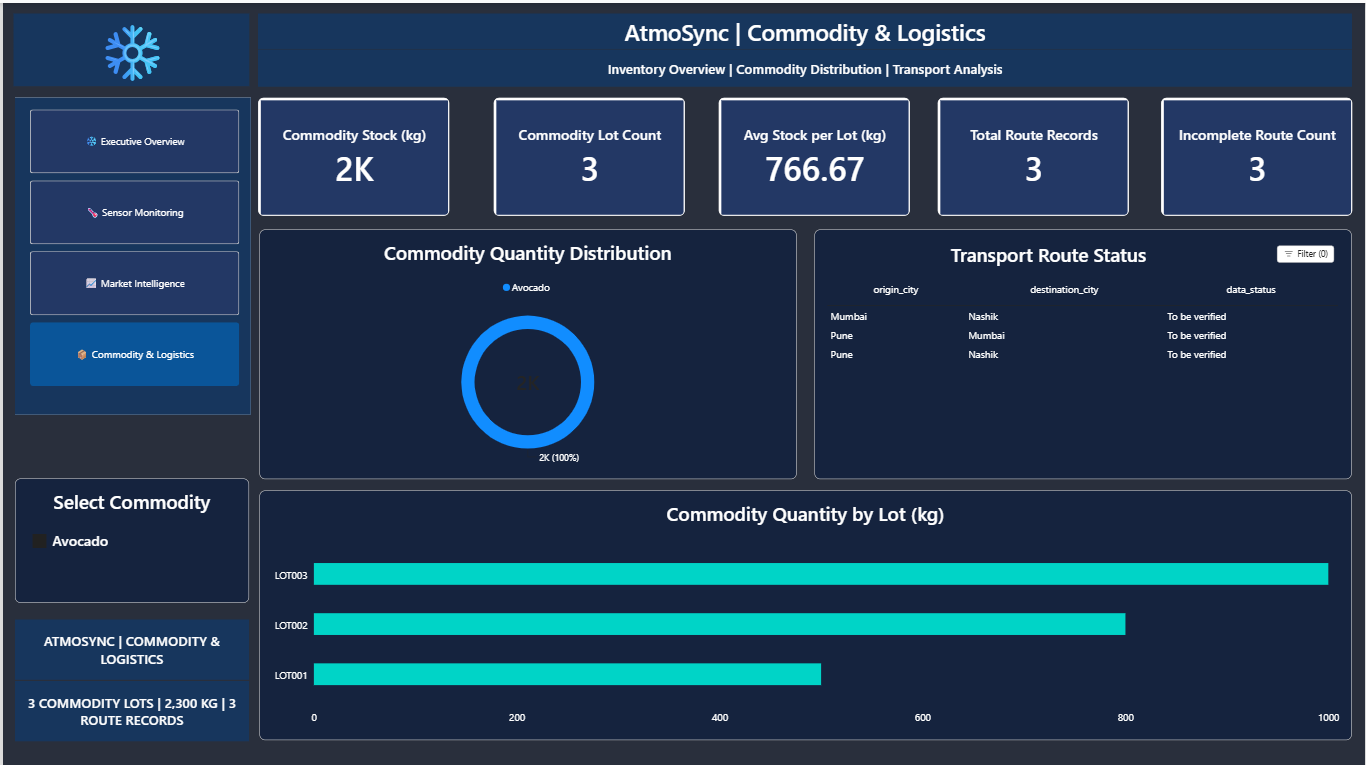

Layout of this report page (visuals, bound fields, positions):
{"tool":"powerbi","page":{"name":"📦\tCommodity & Logistics","canvas":[1920,1080],"ordinal":3},"visuals":[{"type":"shape","box":[15,15,332.5,102.5],"z":0},{"type":"shape","box":[360,15,1542.5,50],"z":1000},{"type":"shape","box":[360,65,1542.5,52.5],"z":2000},{"type":"shape","box":[17.5,132.5,332.5,447.5],"z":3000},{"type":"pageNavigator","box":[37.5,150,295,390],"z":4000},{"type":"cardVisual","fields":{"Data":["Commodity_Data.Commodity Stock (kg)"]},"box":[360.5,132.6,270,167.4],"z":5000},{"type":"cardVisual","fields":{"Data":["Commodity_Data.Commodity Lot Count"]},"box":[690.7,132.6,270,167],"z":6000},{"type":"cardVisual","fields":{"Data":["Commodity_Data.Avg Stock per Lot (kg)"]},"box":[1009.3,132.6,270,167],"z":7000},{"type":"cardVisual","fields":{"Data":["Transport_Routes.Available Route Count"]},"box":[1318.6,132.6,270,167],"z":8000},{"type":"cardVisual","fields":{"Data":["Transport_Routes.Incomplete Route Count"]},"box":[1632.6,132.6,270,167],"z":9000},{"type":"donutChart","title":"Commodity Quantity Distribution","fields":{"Category":["Commodity_Data.commodity"],"Y":["Sum(Commodity_Data.quantity)"]},"box":[361.1,318.8,757.3,351.7],"z":10000},{"type":"clusteredBarChart","title":"Commodity Quantity by Lot (kg)","fields":{"Category":["Commodity_Data.lot_id"],"Y":["Sum(Commodity_Data.quantity)"]},"box":[361.1,686.9,1540.3,351.7],"z":11000},{"type":"shape","box":[17.5,870,330,85],"z":12000},{"type":"shape","box":[17.5,955,330,85],"z":13000},{"type":"slicer","title":"Select Commodity","fields":{"Values":["Commodity_Data.commodity"]},"box":[16.4,670.5,330,175],"z":15000},{"type":"tableEx","title":"Transport Route Status","fields":{"Values":["Transport_Routes.origin_city","Transport_Routes.destination_city","Transport_Routes.data_status"]},"box":[1144.1,318.8,757.3,351.7],"z":15001}]}

Visuals, with their boxes in screenshot pixels (x1, y1, x2, y2), scaled from the page's 1920x1080 canvas onto the 1366x765 screenshot:
shape: x1=11 y1=11 x2=247 y2=83
shape: x1=256 y1=11 x2=1354 y2=46
shape: x1=256 y1=46 x2=1354 y2=83
shape: x1=12 y1=94 x2=249 y2=411
pageNavigator: x1=27 y1=106 x2=237 y2=382
cardVisual - Commodity_Data.Commodity Stock (kg): x1=256 y1=94 x2=449 y2=212
cardVisual - Commodity_Data.Commodity Lot Count: x1=491 y1=94 x2=683 y2=212
cardVisual - Commodity_Data.Avg Stock per Lot (kg): x1=718 y1=94 x2=910 y2=212
cardVisual - Transport_Routes.Available Route Count: x1=938 y1=94 x2=1130 y2=212
cardVisual - Transport_Routes.Incomplete Route Count: x1=1162 y1=94 x2=1354 y2=212
"Commodity Quantity Distribution" donutChart: x1=257 y1=226 x2=796 y2=475
"Commodity Quantity by Lot (kg)" clusteredBarChart: x1=257 y1=487 x2=1353 y2=736
shape: x1=12 y1=616 x2=247 y2=676
shape: x1=12 y1=676 x2=247 y2=737
"Select Commodity" slicer: x1=12 y1=475 x2=246 y2=599
"Transport Route Status" tableEx: x1=814 y1=226 x2=1353 y2=475
